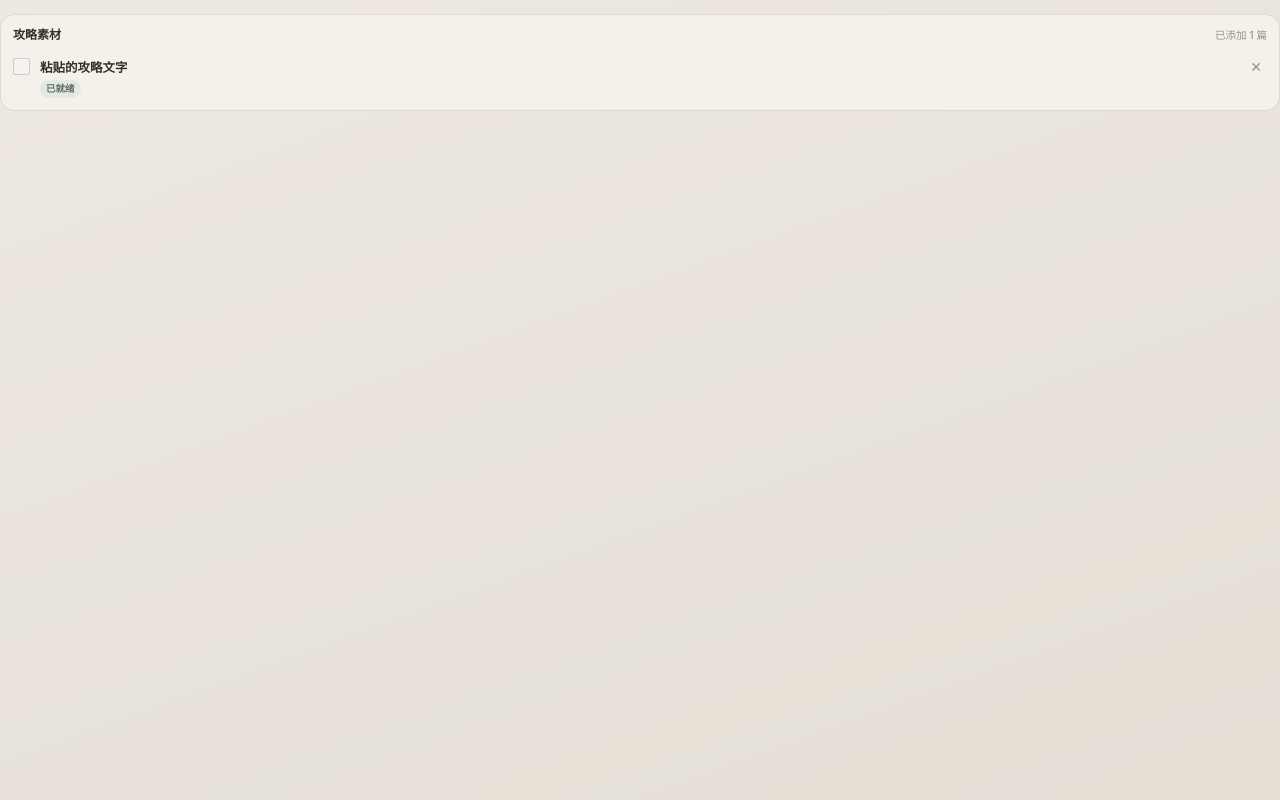
GuideSourceList 删除二次确认（任务 188） › 粘贴文字：无标题时用短标签兜底
What coordinates should you click on to do the following:
click the button named "移除该攻略"
I would click on:
 (1256, 67)
Its box is [1245,57,1267,77].
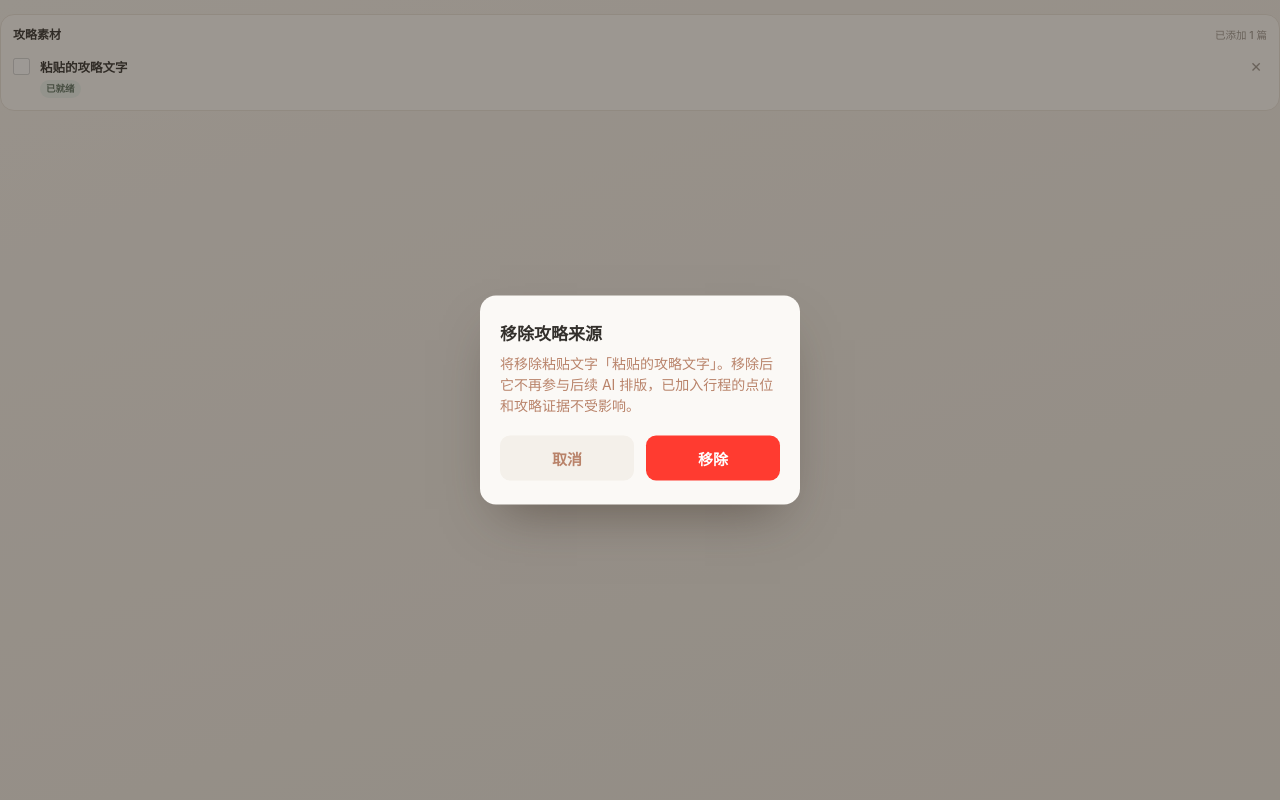
Check: the text "将移除粘贴文字「粘贴的攻略文字」。移除后它不再参与后续 AI 排版，已加入行程的点位和攻略证据不受影响。" is shown, box [500,352,780,416]
